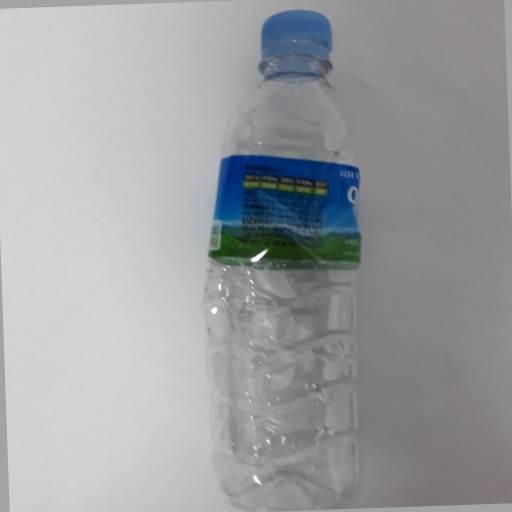Plastic_0: (203, 6, 375, 511)
